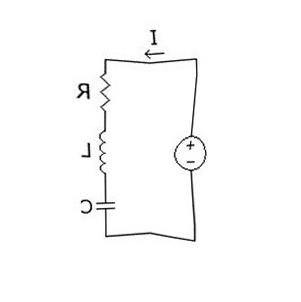Battery: (159, 129, 219, 182)
